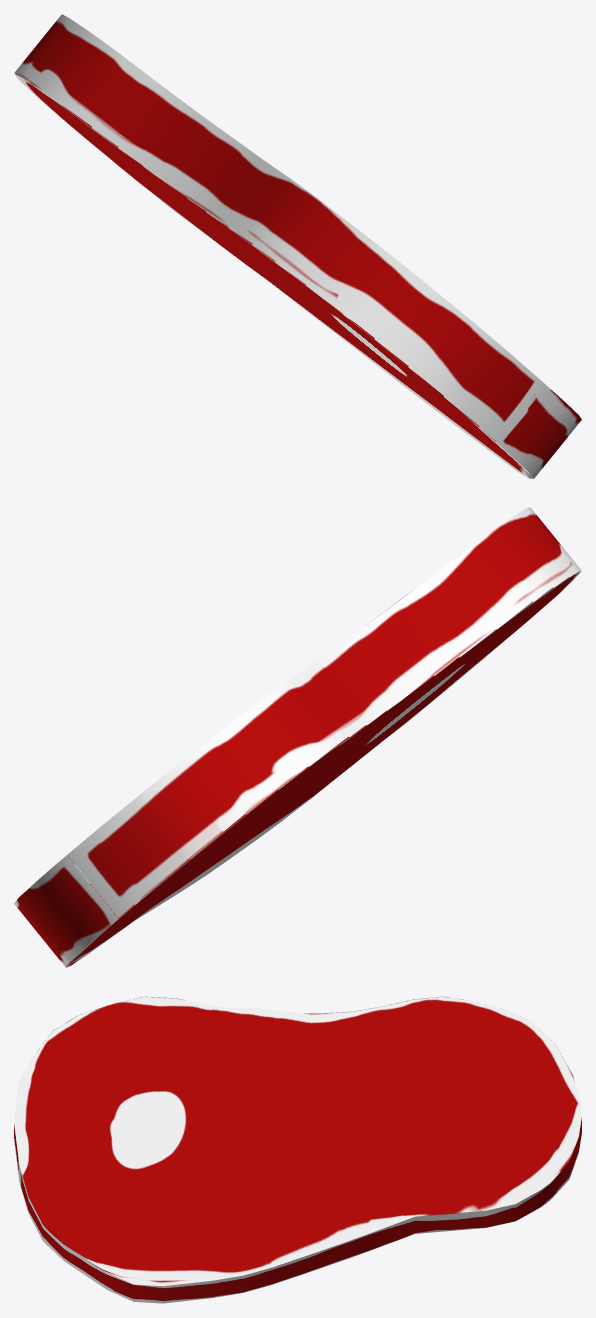
File: pork.FBX
The picture shows the model from 3 angles, top to bottom: view 1: azimuth 30°, elevation 25°; view 2: azimuth 150°, elevation 25°; view 3: azimuth 270°, elevation 25°; orthographic projection. The views are drawn at different scales.
Visible parts, largest first — view 1: Box002; view 2: Box002; view 3: Box002.
Boxes of the visible parts, x1=… form: Box002: x1=14, y1=14, x2=581, y2=478; Box002: x1=14, y1=507, x2=581, y2=967; Box002: x1=14, y1=996, x2=581, y2=1303.
Bounding box in the file's own units: 12.37 × 12.84 × 28.11.
